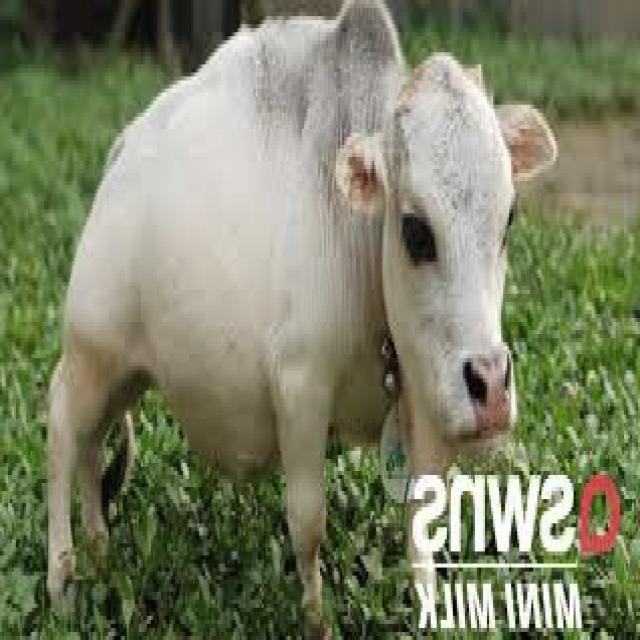cow: (50, 0, 555, 636)
